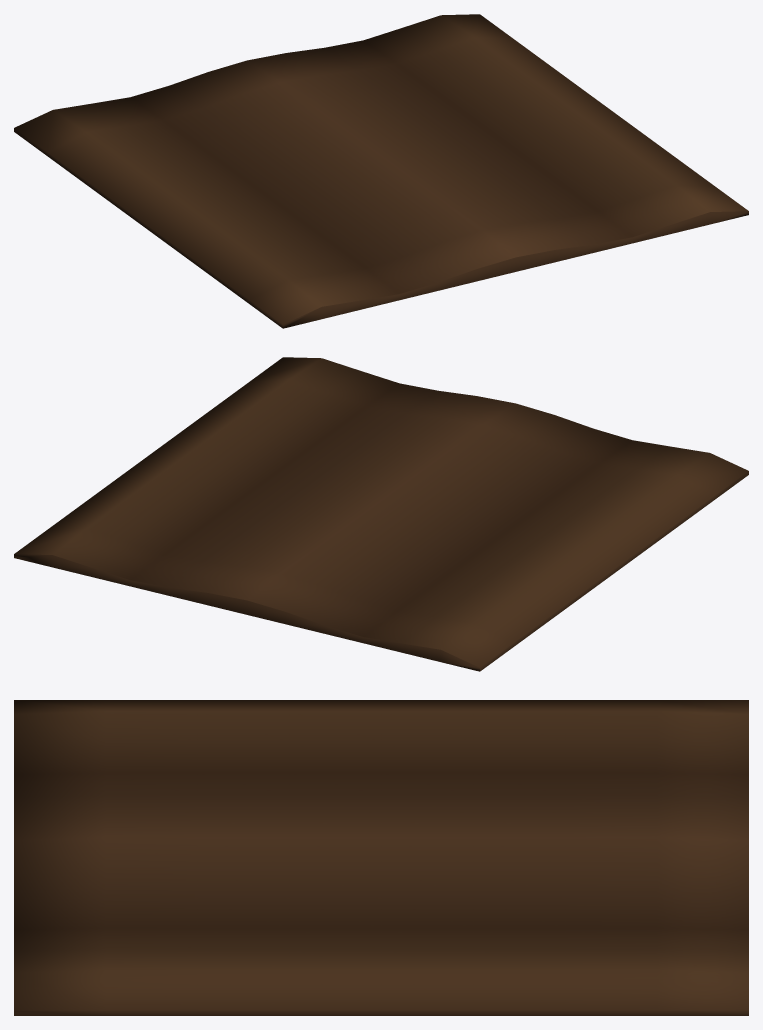
File: farm_soil_tile.glb
3 views of the same model, one above another, from view 1: azimuth 30°, elevation 25°; view 2: azimuth 150°, elevation 25°; view 3: azimuth 270°, elevation 25° (orthographic). The views are drawn at different scales.
Visible parts, largest first — view 1: farm_soil_tile; view 2: farm_soil_tile; view 3: farm_soil_tile.
Part boxes in pixels (x1,y1,x2,y2): farm_soil_tile: (14, 14, 748, 328); farm_soil_tile: (14, 357, 748, 671); farm_soil_tile: (14, 700, 748, 1015).
Size of the model in its own units: 1 by 0.035 by 1.
